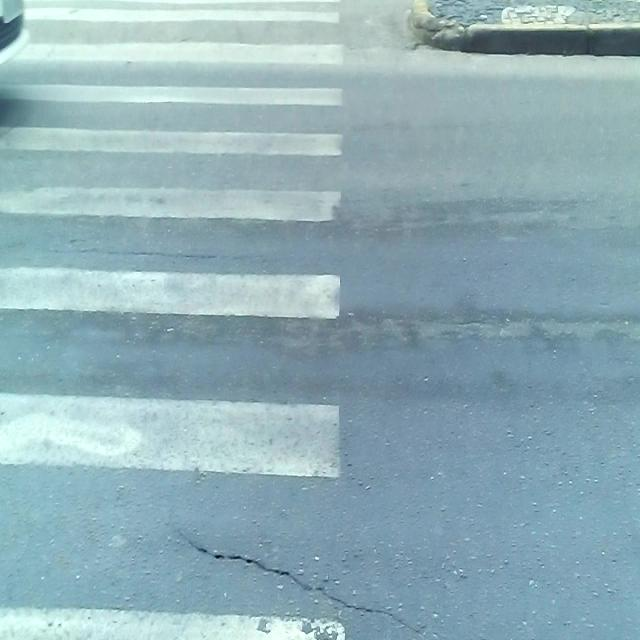crosswalk: (0, 0, 348, 640)
